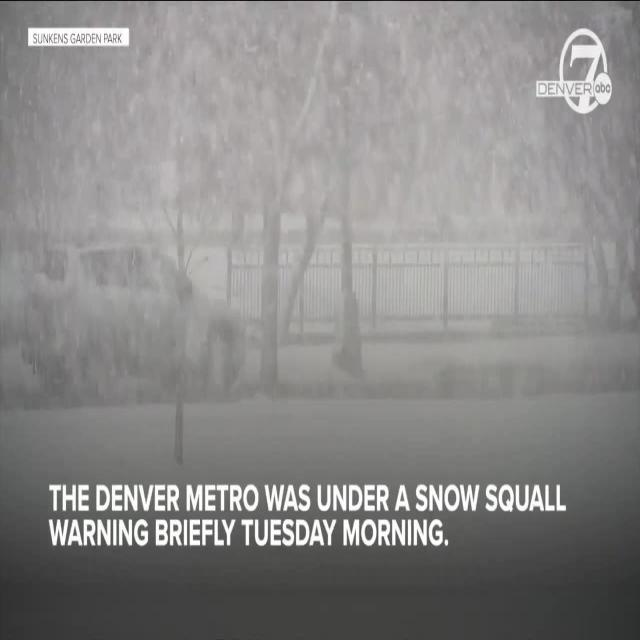Car: (23, 217, 253, 421)
